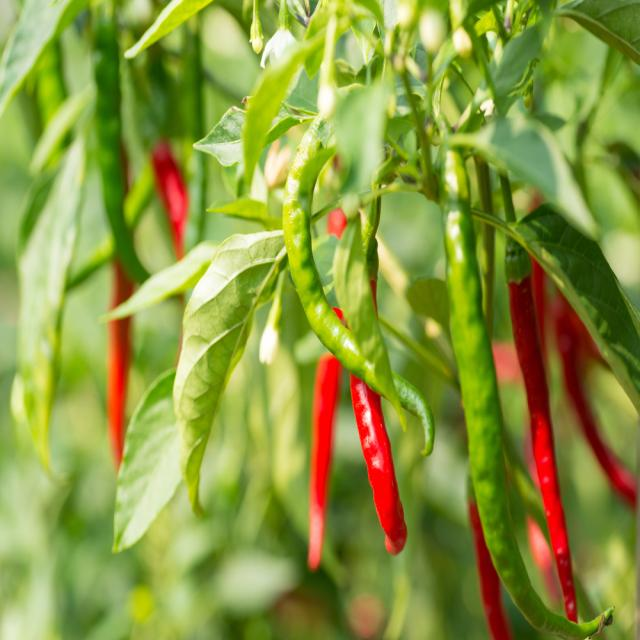Ripe: (510, 277, 577, 621), (351, 375, 408, 555)
Unripe: (441, 150, 599, 638), (282, 114, 434, 458), (94, 4, 149, 283)
